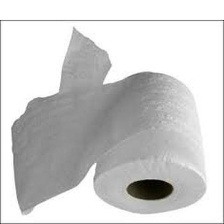tissue: (5, 22, 213, 221)
